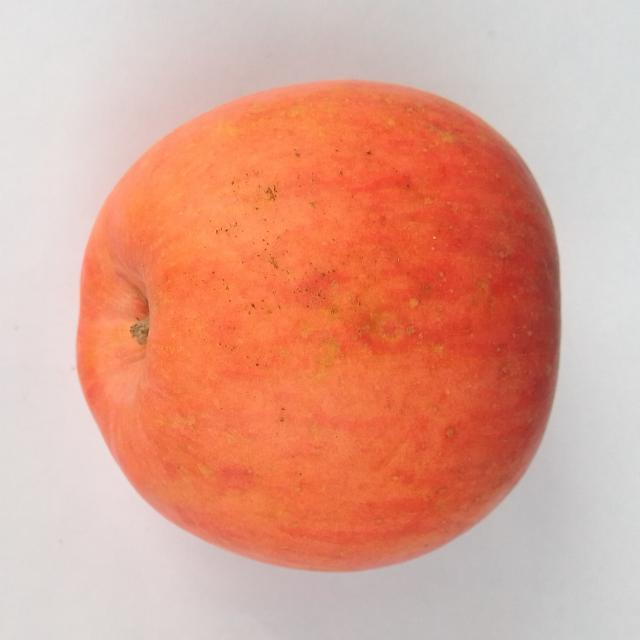Fresh Apple: (80, 75, 575, 578)
